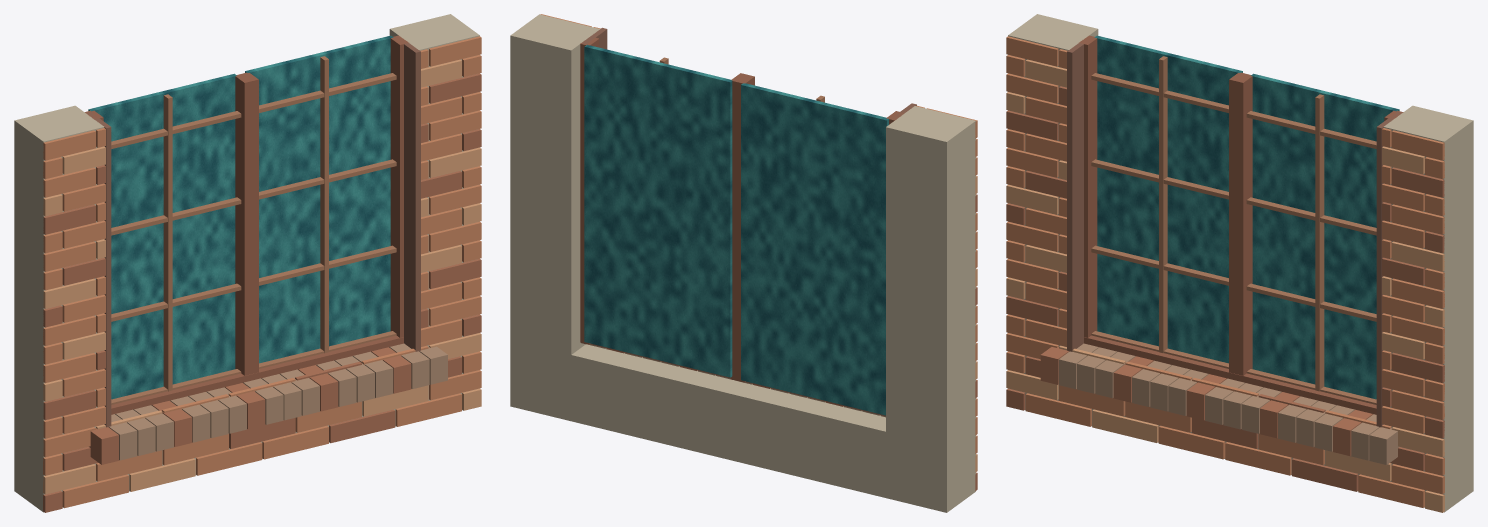
Rendered from xiangde-lane25-brick-sill-paired-sashes-far.glb.
The picture shows the model from 3 angles, left to right: view 1: azimuth 30°, elevation 25°; view 2: azimuth 150°, elevation 25°; view 3: azimuth 330°, elevation 25°; orthographic projection.
Visible parts, largest first — view 1: 祥德路25弄住宅临院双扇格窗与竖砖窗台; view 2: 祥德路25弄住宅临院双扇格窗与竖砖窗台; view 3: 祥德路25弄住宅临院双扇格窗与竖砖窗台.
Boxes of the visible parts, left/top/right/bottom form: 祥德路25弄住宅临院双扇格窗与竖砖窗台: left=14, top=14, right=481, bottom=512; 祥德路25弄住宅临院双扇格窗与竖砖窗台: left=510, top=14, right=977, bottom=512; 祥德路25弄住宅临院双扇格窗与竖砖窗台: left=1006, top=14, right=1473, bottom=512.
Size of the model in its own units: 2.34 by 1.9 by 0.39.
9 materials, 1 textured.
